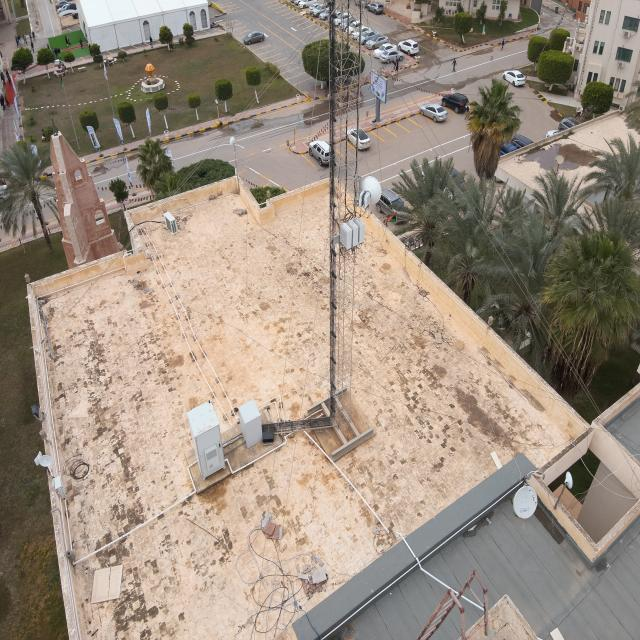microware-dish: (354, 174, 383, 211)
power-box: (337, 216, 368, 250)
